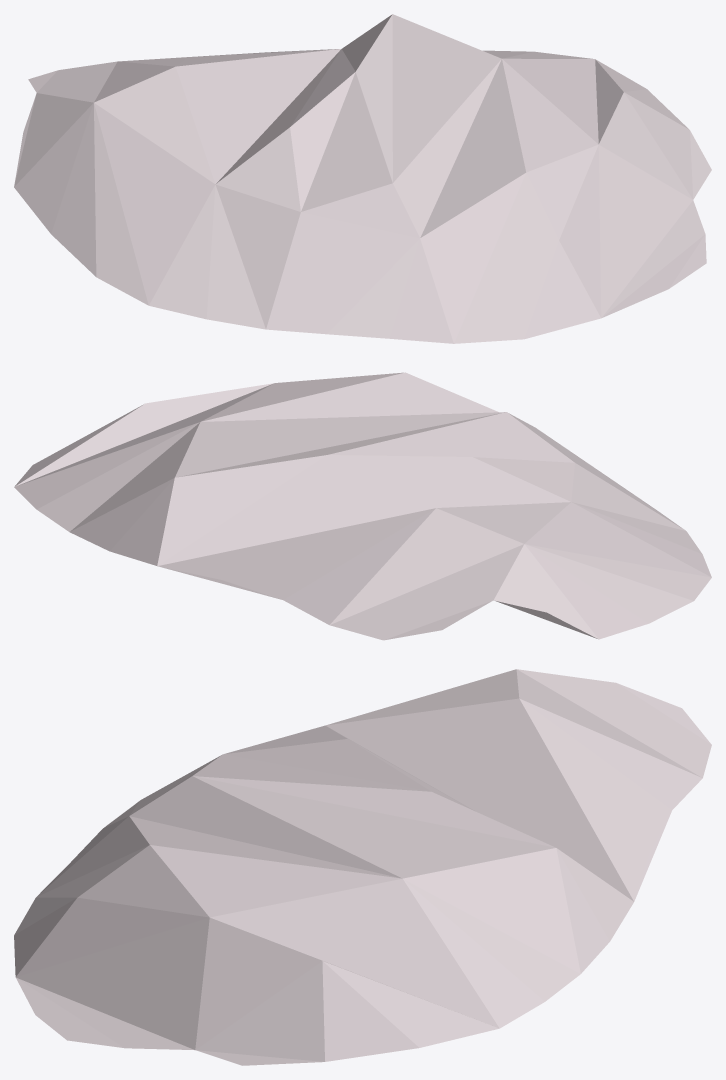
The model's file is Terrain_Craze_1.fbx.
The picture shows the model from 3 angles, top to bottom: view 1: azimuth 30°, elevation 25°; view 2: azimuth 150°, elevation 25°; view 3: azimuth 270°, elevation 25°; orthographic projection. The views are drawn at different scales.
Parts seen in each view (by area): view 1: Terrain_Craze_1; view 2: Terrain_Craze_1; view 3: Terrain_Craze_1.
Boxes of the visible parts, bbox=[...] form: Terrain_Craze_1: bbox=[14, 14, 711, 343]; Terrain_Craze_1: bbox=[14, 372, 711, 640]; Terrain_Craze_1: bbox=[14, 669, 711, 1065].
Size of the model in its own units: 997 by 230 by 883.
Materials: 1 (1 with a texture image).
